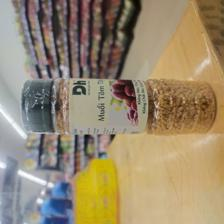TayNinh_green: (19, 75, 216, 136)
